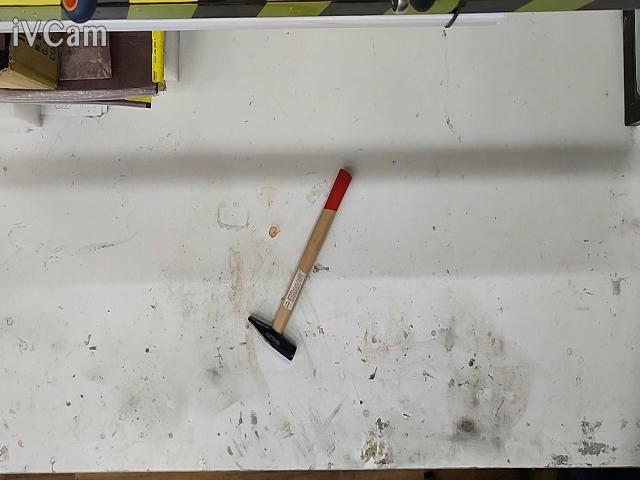Hammer: (249, 168, 351, 360)
